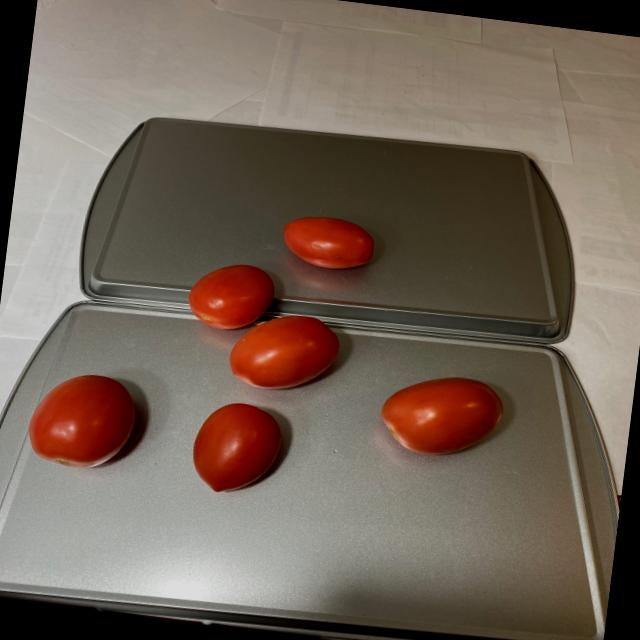tomato: (160, 198, 385, 512), (374, 364, 513, 468), (21, 363, 142, 479)
